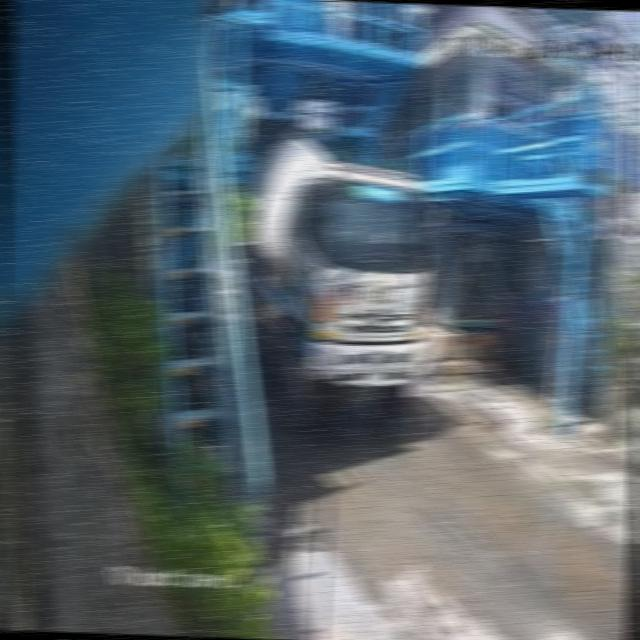cement_mixer_truck: (235, 136, 442, 430)
